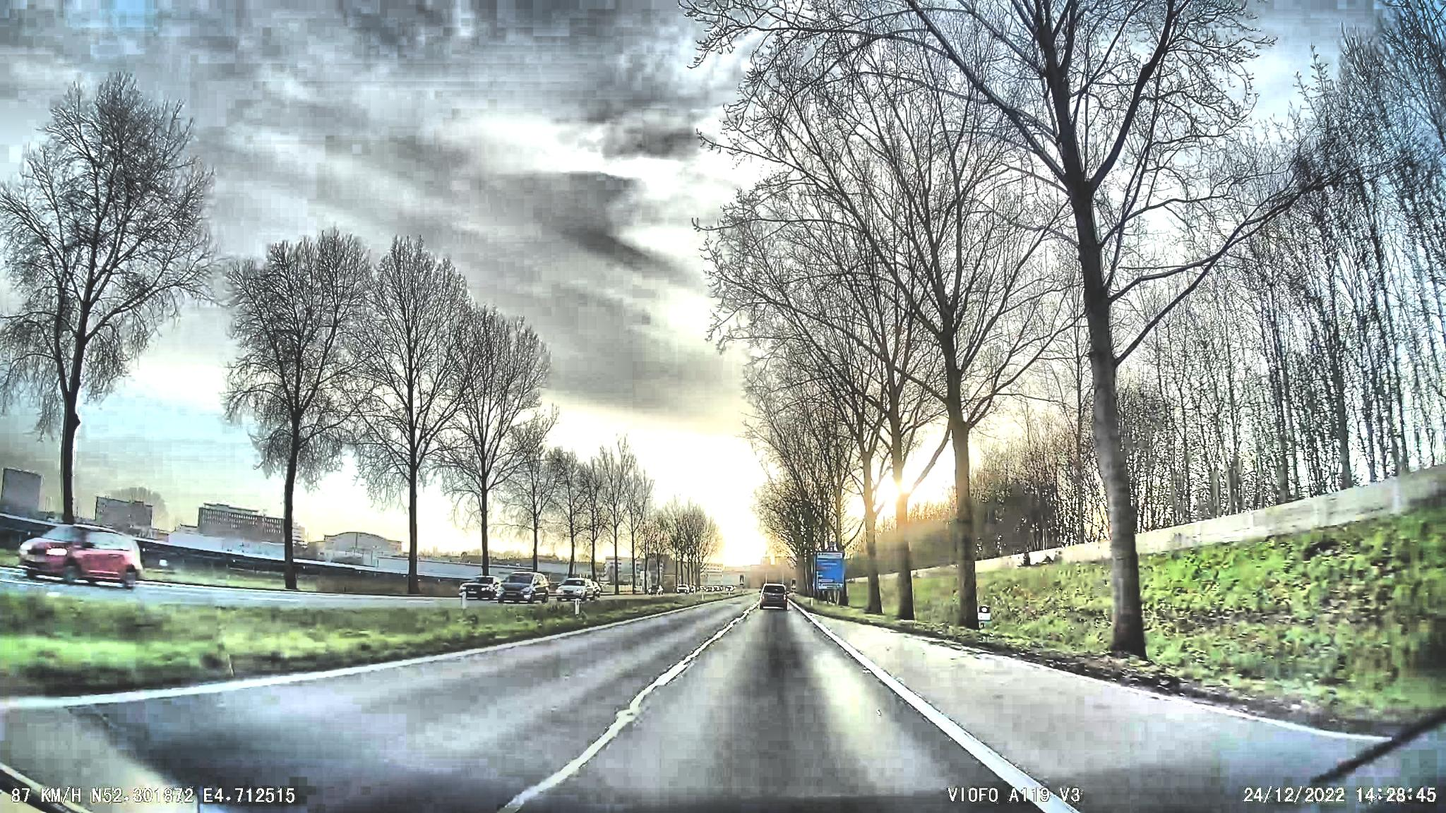Roads: (0, 604, 1446, 813)
